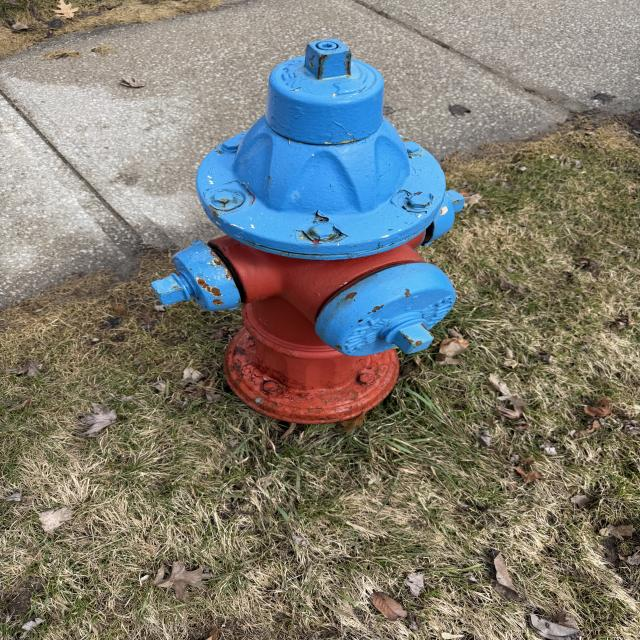Fire hydrant: (148, 38, 466, 423)
